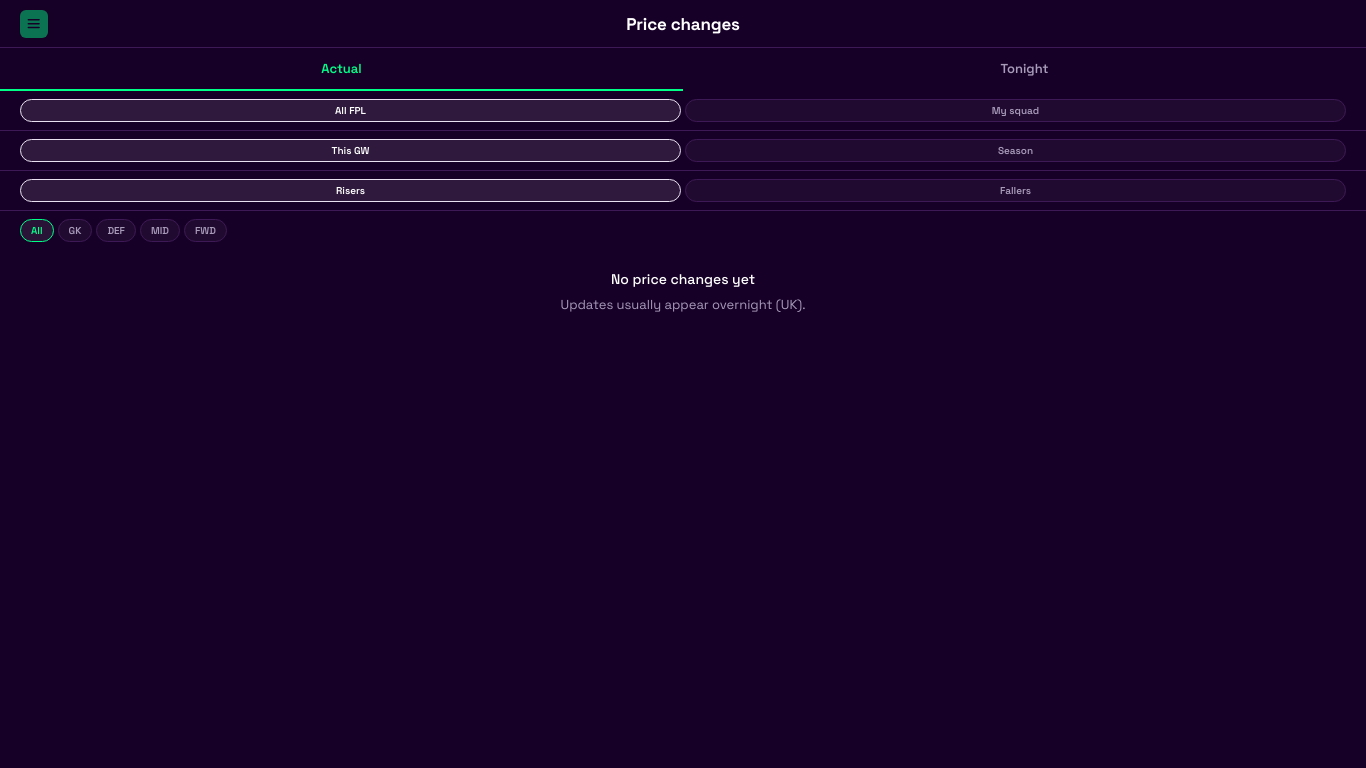
PriceChangesScreen › shows premium overlay on my squad for free users
The image size is (1366, 768).
Click the button "My squad": (1016, 110) [685,99,1346,122]
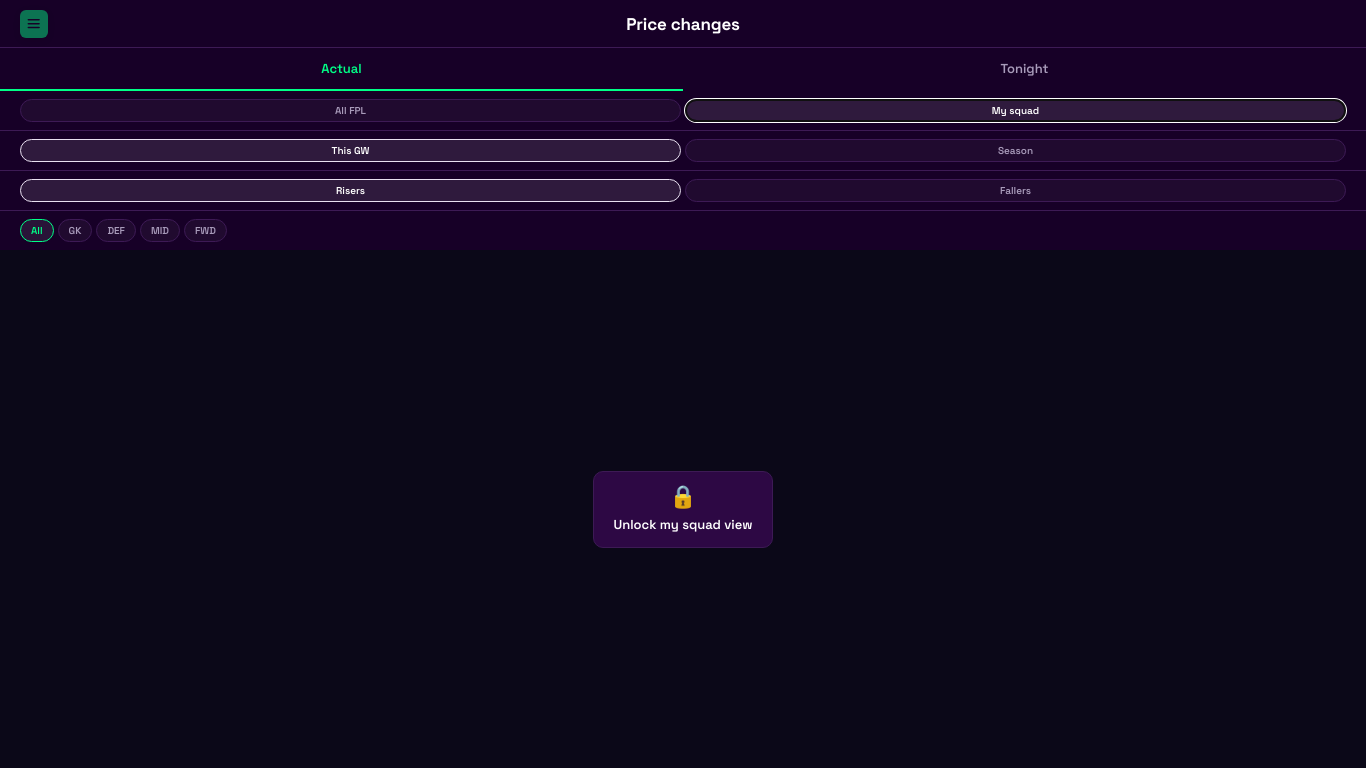
Check: the text "Unlock my squad view" is shown, box [614,516,752,532]
